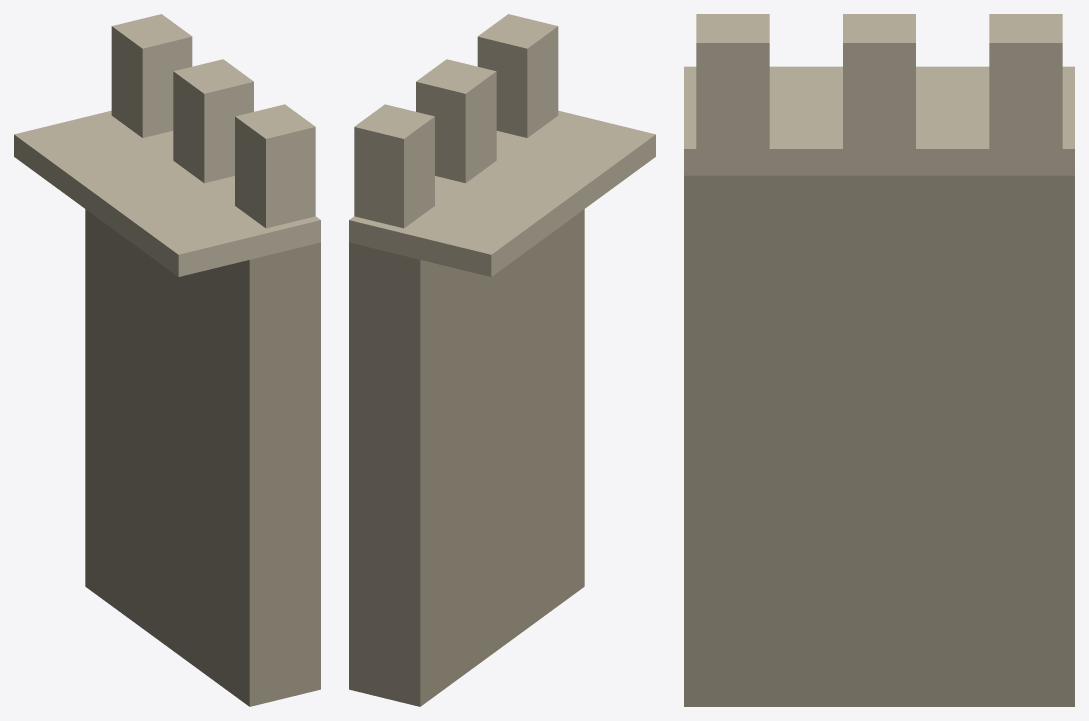
File: siege-wall.glb
The picture shows the model from 3 angles, left to right: view 1: azimuth 30°, elevation 25°; view 2: azimuth 150°, elevation 25°; view 3: azimuth 270°, elevation 25°; orthographic projection. The views are drawn at different scales.
Parts seen in each view (by area): view 1: Mesh_Wall, Mesh_Walk, Mesh_Merlon2, Mesh_Merlon0, Mesh_Merlon1; view 2: Mesh_Wall, Mesh_Walk, Mesh_Merlon0, Mesh_Merlon2, Mesh_Merlon1; view 3: Mesh_Wall, Mesh_Walk, Mesh_Merlon0, Mesh_Merlon2, Mesh_Merlon1.
Part boxes in pixels (x1,y1,x2,y2): Mesh_Wall: (85,209,320,706); Mesh_Walk: (14,110,320,276); Mesh_Merlon2: (235,104,315,228); Mesh_Merlon0: (111,14,192,137); Mesh_Merlon1: (173,59,253,183); Mesh_Wall: (349,209,584,706); Mesh_Walk: (349,110,655,276); Mesh_Merlon0: (354,104,434,228); Mesh_Merlon2: (477,14,558,137); Mesh_Merlon1: (416,59,496,183); Mesh_Wall: (684,175,1074,706); Mesh_Walk: (684,66,1074,175); Mesh_Merlon0: (989,14,1062,148); Mesh_Merlon2: (696,14,769,148); Mesh_Merlon1: (843,14,915,148).
Size of the model in its own units: 2 by 7.5 by 4.
